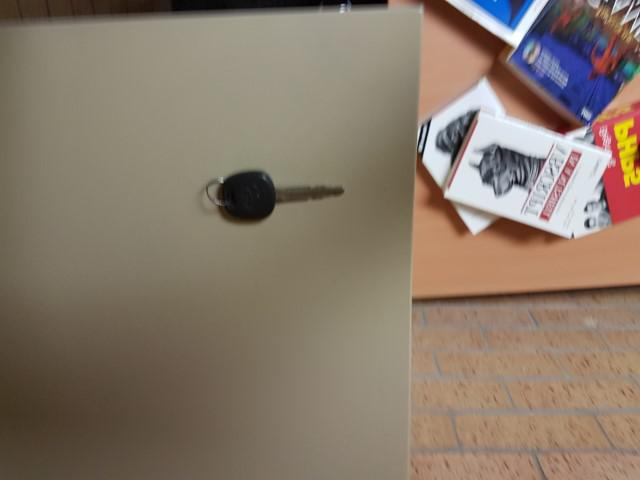key: (222, 170, 345, 222)
